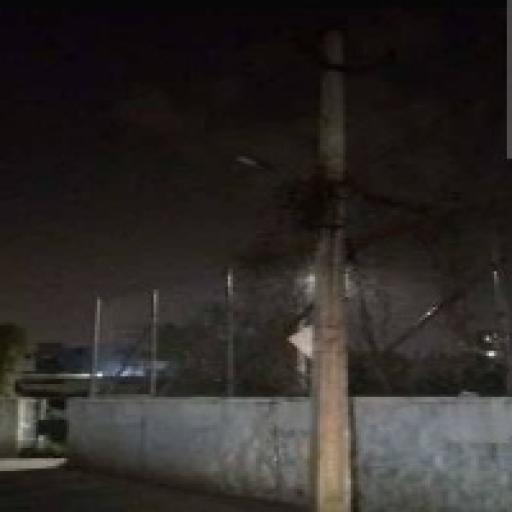Not Working: (230, 150, 280, 181)
